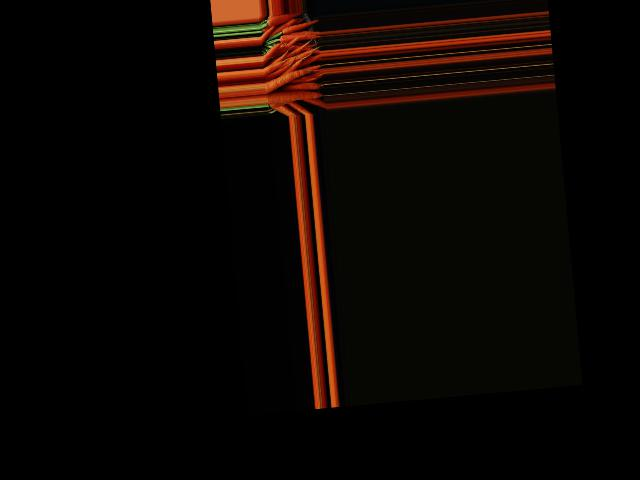carrot: (265, 12, 300, 25)
